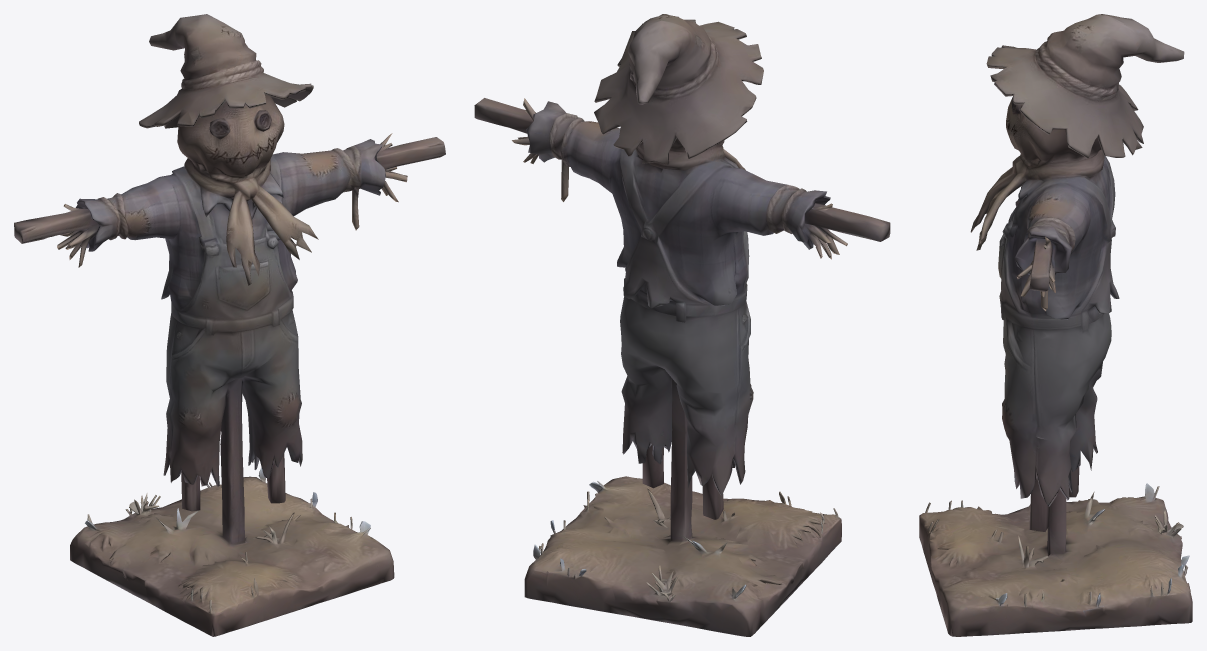
File: farm_scarecrow.glb
The picture shows the model from 3 angles, left to right: view 1: azimuth 30°, elevation 25°; view 2: azimuth 150°, elevation 25°; view 3: azimuth 270°, elevation 25°; orthographic projection. The views are drawn at different scales.
Visible parts, largest first — view 1: tripo_node_aef233ae-9d72-4750-a793-712764d64de2; view 2: tripo_node_aef233ae-9d72-4750-a793-712764d64de2; view 3: tripo_node_aef233ae-9d72-4750-a793-712764d64de2.
Part boxes in pixels (x1,y1,x2,y2): tripo_node_aef233ae-9d72-4750-a793-712764d64de2: (14, 14, 445, 636); tripo_node_aef233ae-9d72-4750-a793-712764d64de2: (474, 14, 890, 636); tripo_node_aef233ae-9d72-4750-a793-712764d64de2: (919, 14, 1192, 636).
Size of the model in its own units: 0.7876 by 1 by 0.4412.
1 material, 1 textured.
